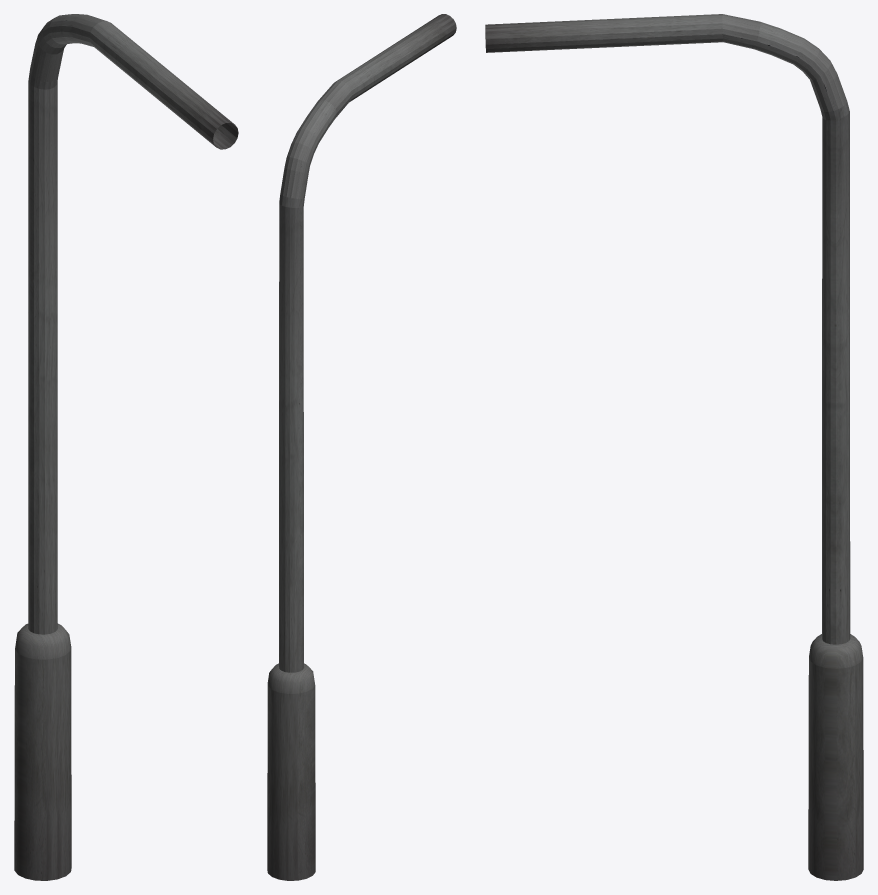
The model's file is stand.FBX.
The picture shows the model from 3 angles, left to right: view 1: azimuth 30°, elevation 25°; view 2: azimuth 150°, elevation 25°; view 3: azimuth 270°, elevation 25°; orthographic projection. The views are drawn at different scales.
Visible parts, largest first — view 1: Cylinder001; view 2: Cylinder001; view 3: Cylinder001.
Boxes of the visible parts, box(x1,y1,x2,y2) form: Cylinder001: box(14, 14, 238, 880); Cylinder001: box(267, 14, 456, 880); Cylinder001: box(485, 14, 863, 880).
Bounding box in the file's own units: 1.6 × 27.19 × 10.93.
